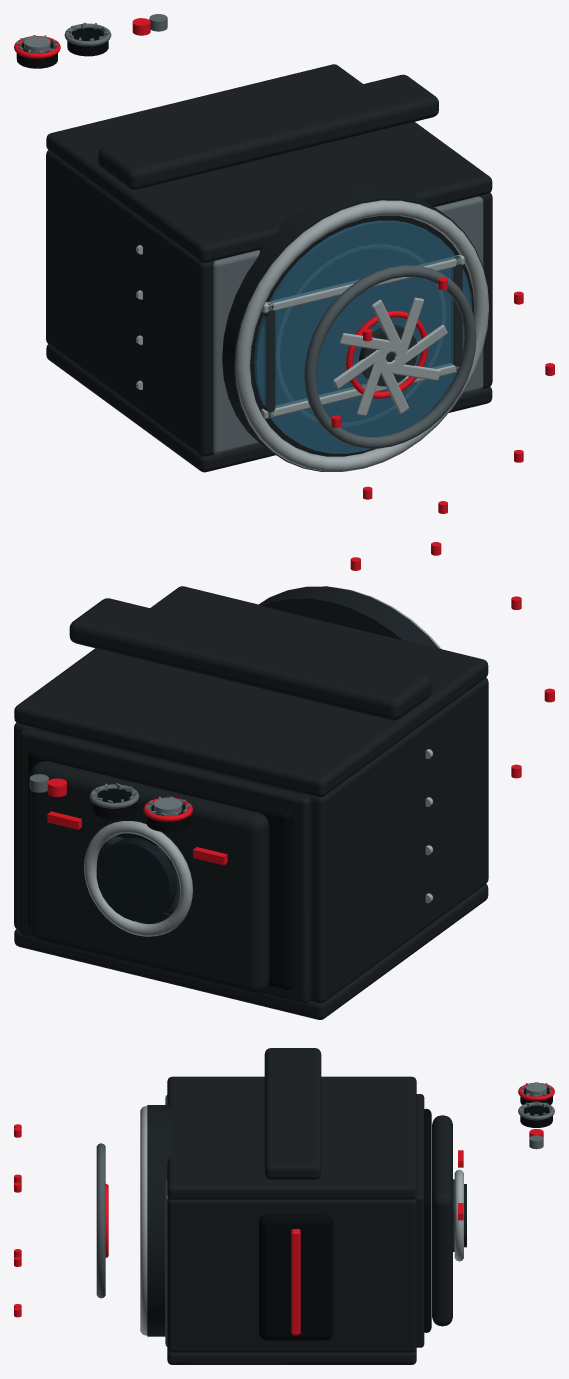
The model's file is ufirst-camera-mobile.glb.
3 views of the same model, one above another, from view 1: azimuth 30°, elevation 25°; view 2: azimuth 150°, elevation 25°; view 3: azimuth 270°, elevation 25° (orthographic). The views are drawn at different scales.
Visible parts, largest first — view 1: TopPlate, LeftBodyRail, FrontLens, TopCarryHandle, LensHousingFrontEdge, LensHousing, Aperture, FrontChassisPlate, BottomPlate, RightBodyRail, Shutter, ShutterRailLeft (+13 smaller); view 2: TopPlate, LeftBodyRail, RearModule, TopCarryHandle, RearChassisPlate, RearGripPanel, BottomPlate, ViewfinderGlass, LensHousing, ViewfinderRing, RightBodyRail, ShutterDial base; view 3: RightBodyRail, TopPlate, Grip, TopCarryHandle, LensHousing, RearModule, BottomPlate, RearChassisPlate, LensHousingFrontEdge, RearGripPanel, Aperture, GripAccent (+3 smaller).
Boxes of the visible parts, x1,y1,x2,y2 form: TopPlate: [46, 64, 492, 262]; LeftBodyRail: [46, 150, 214, 456]; FrontLens: [254, 220, 472, 453]; TopCarryHandle: [98, 74, 438, 189]; LensHousingFrontEdge: [235, 200, 489, 471]; LensHousing: [222, 187, 486, 471]; Aperture: [304, 265, 476, 448]; FrontChassisPlate: [213, 196, 483, 454]; BottomPlate: [46, 344, 492, 472]; RightBodyRail: [479, 192, 492, 389]; Shutter: [261, 255, 464, 313]; ShutterRailLeft: [263, 301, 275, 417]; TopPlate: [14, 586, 488, 797]; LeftBodyRail: [308, 677, 488, 1003]; RearModule: [30, 761, 269, 993]; TopCarryHandle: [69, 598, 431, 720]; RearChassisPlate: [19, 727, 311, 1003]; RearGripPanel: [28, 749, 292, 989]; BottomPlate: [14, 884, 488, 1019]; ViewfinderGlass: [96, 837, 176, 921]; LensHousing: [259, 586, 438, 648]; ViewfinderRing: [84, 821, 192, 936]; RightBodyRail: [14, 723, 107, 929]; ShutterDial base: [92, 789, 136, 819]; RightBodyRail: [167, 1198, 416, 1352]; TopPlate: [167, 1076, 416, 1199]; Grip: [259, 1214, 332, 1340]; TopCarryHandle: [264, 1048, 321, 1179]; LensHousing: [147, 1105, 172, 1336]; RearModule: [432, 1115, 452, 1326]; BottomPlate: [167, 1348, 416, 1364]; RearChassisPlate: [416, 1094, 424, 1347]; LensHousingFrontEdge: [140, 1106, 147, 1335]; RearGripPanel: [424, 1108, 431, 1332]; Aperture: [96, 1143, 105, 1298]; GripAccent: [291, 1229, 300, 1335].
Bounding box in the file's own units: 6.08 × 5.07 × 11.28.
